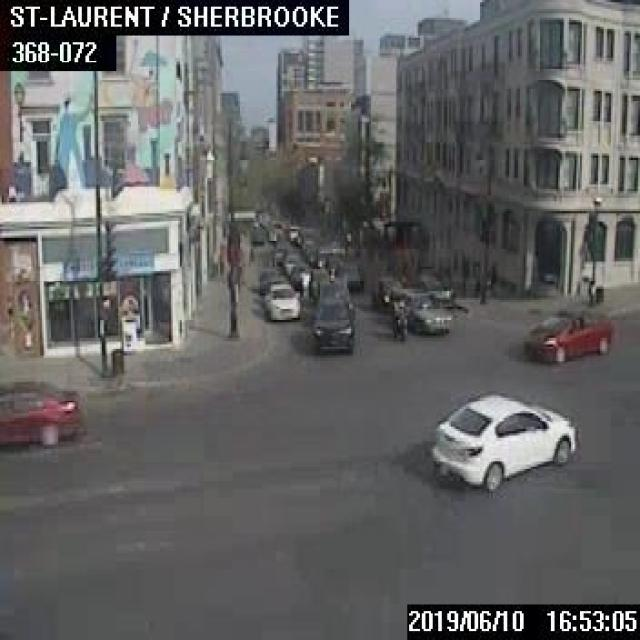vehicle: (428, 389, 576, 489), (0, 380, 82, 442), (524, 306, 607, 360), (310, 296, 354, 352), (400, 291, 450, 332), (263, 282, 299, 318), (415, 272, 453, 302), (372, 276, 402, 308), (334, 260, 362, 288), (257, 265, 283, 292), (392, 300, 407, 337), (247, 227, 278, 244)
